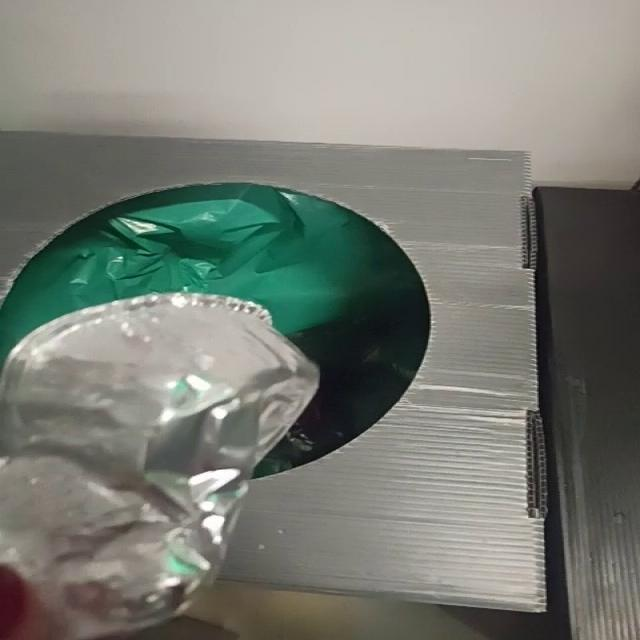Bin: (3, 133, 547, 612)
Metal: (1, 293, 317, 640)
